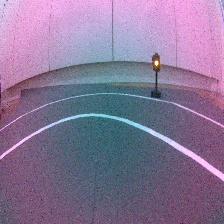amber: (147, 51, 165, 99)
